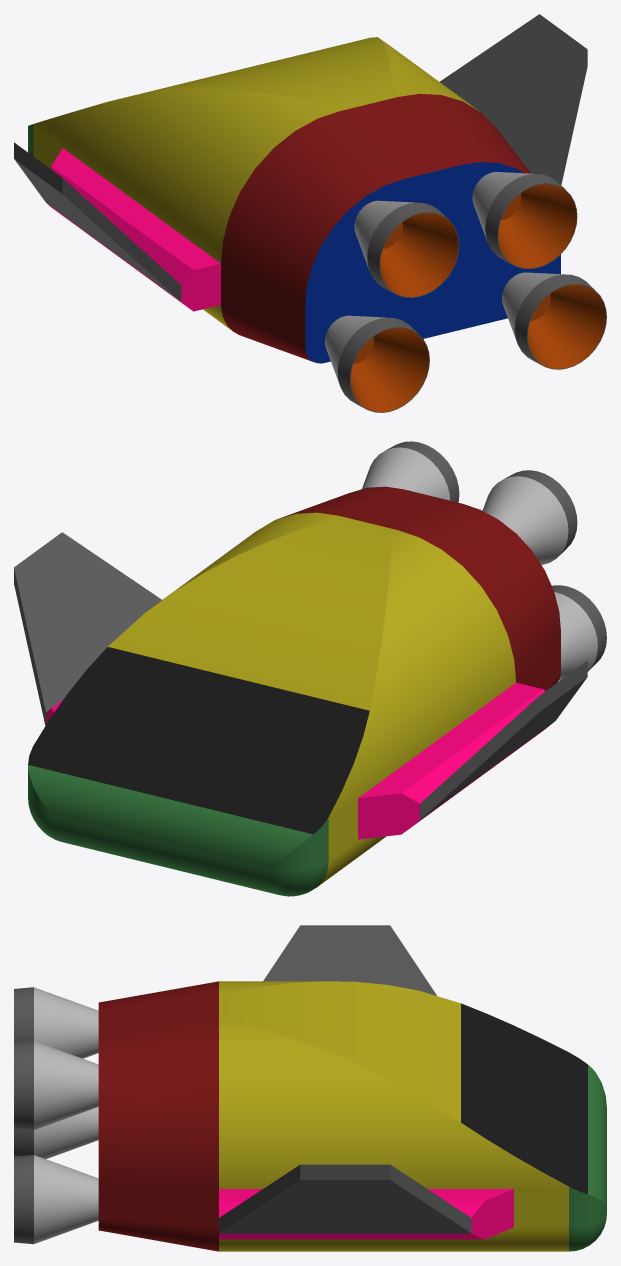
The model's file is ship_1 v0.fbx.
3 views of the same model, one above another, from view 1: azimuth 30°, elevation 25°; view 2: azimuth 150°, elevation 25°; view 3: azimuth 270°, elevation 25° (orthographic). The views are drawn at different scales.
Visible parts, largest first — view 1: Body1; view 2: Body1; view 3: Body1.
Boxes of the visible parts, <box> form: Body1: <box>14,14,606,412</box>; Body1: <box>14,441,606,896</box>; Body1: <box>14,925,606,1251</box>.
Bounding box in the file's own units: 134 × 50.36 × 140.
